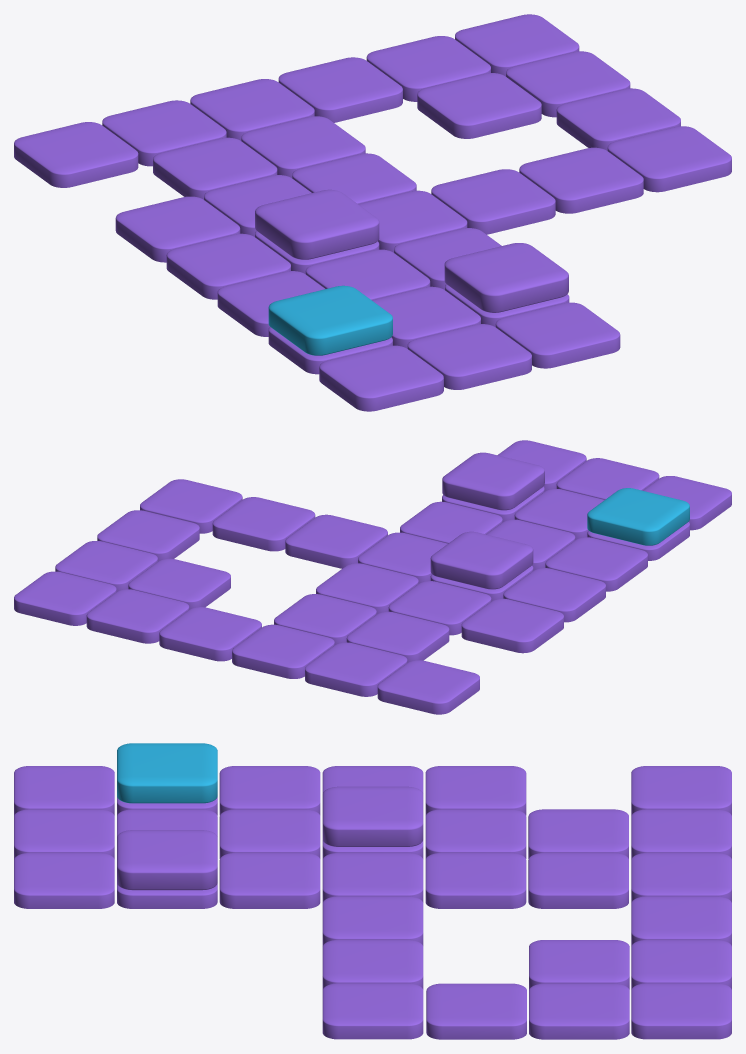
The model's file is Level2.glb.
The picture shows the model from 3 angles, top to bottom: view 1: azimuth 30°, elevation 25°; view 2: azimuth 150°, elevation 25°; view 3: azimuth 270°, elevation 25°; orthographic projection. The views are drawn at different scales.
Parts seen in each view (by area): view 1: block.001, block, block.002, platform.035, platform.018, platform.001, platform.038, platform.031, platform.041, platform.034, platform.008, platform.026 (+20 smaller); view 2: block.001, block.002, block, platform.001, platform.005, platform.014, platform.031, platform.002, platform.017, platform.004, platform.008, platform.026 (+20 smaller); view 3: block.001, block, block.002, platform.041, platform.009, platform.017, platform.013, platform.025, platform.012, platform.038, platform.007, platform.021 (+20 smaller).
Part boxes in pixels (x1,y1,x2,y2): block.001: (255,189,379,259); block: (268,285,392,355); block.002: (444,243,568,312); platform.035: (319,345,443,411); platform.018: (417,73,541,138); platform.001: (14,122,138,187); platform.038: (495,302,620,368); platform.031: (519,147,643,213); platform.041: (607,126,731,192); platform.034: (407,324,531,389); platform.008: (278,57,402,122); platform.026: (431,169,555,234); block.001: (430,531,533,589); block.002: (442,452,544,510); block: (587,488,689,545); platform.001: (377,660,479,714); platform.005: (461,598,563,653); platform.014: (86,589,189,643); platform.031: (212,497,315,551); platform.002: (305,642,407,696); platform.017: (14,571,116,625); platform.004: (232,624,334,678); platform.008: (159,607,261,661); platform.026: (285,514,387,568); block.001: (322,786,423,846); block: (117,743,217,803); block.002: (117,830,217,890); platform.041: (322,983,423,1039); platform.009: (426,983,526,1039); platform.017: (631,983,731,1039); platform.013: (529,983,629,1039); platform.025: (219,853,320,908); platform.012: (425,853,526,908); platform.038: (14,853,114,908); platform.007: (528,853,628,908); platform.021: (219,809,320,858).
Size of what is drawn, in the model's own units: 14.81 by 1.04 by 17.27.
